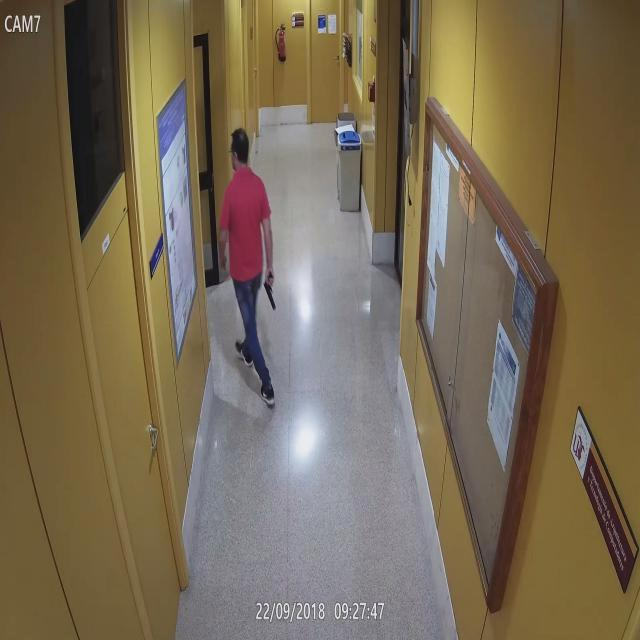weapon: (261, 273, 282, 311)
